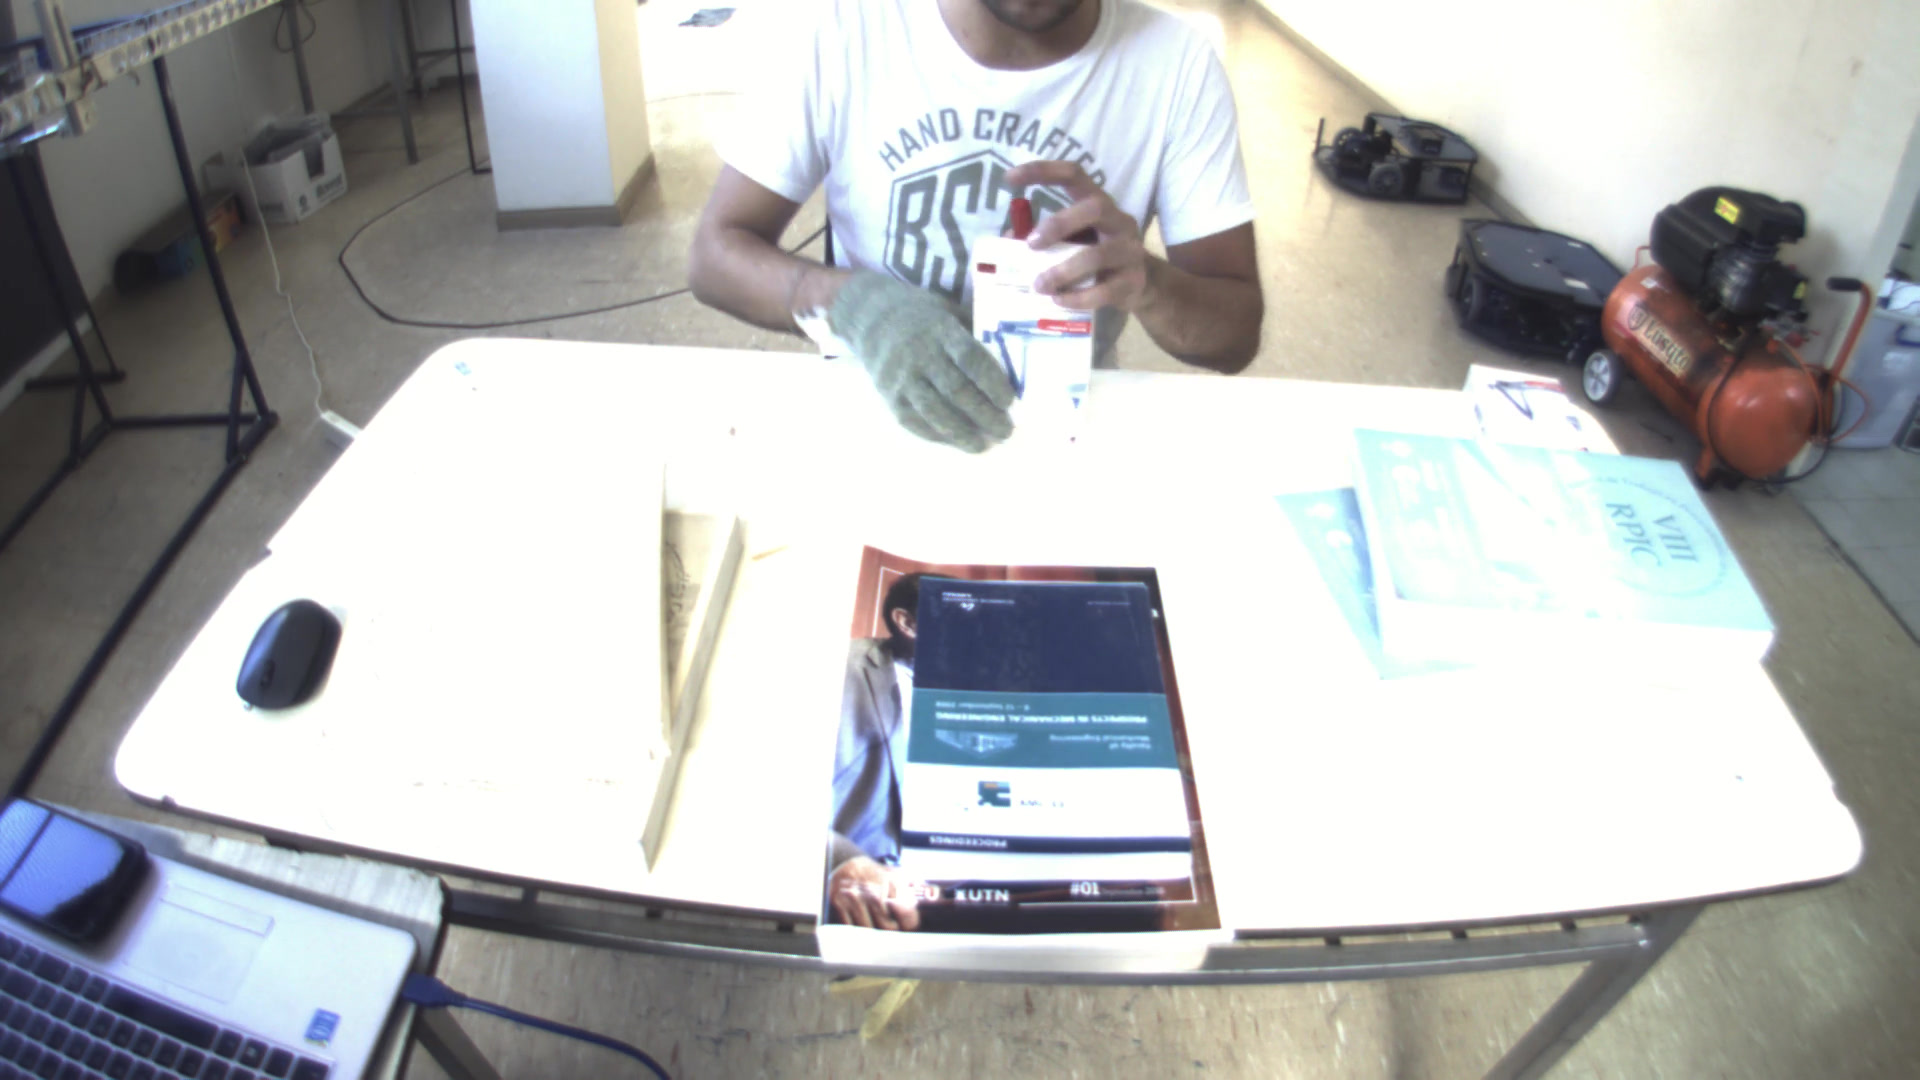hand: (804, 261, 1025, 454), (996, 164, 1174, 320)
